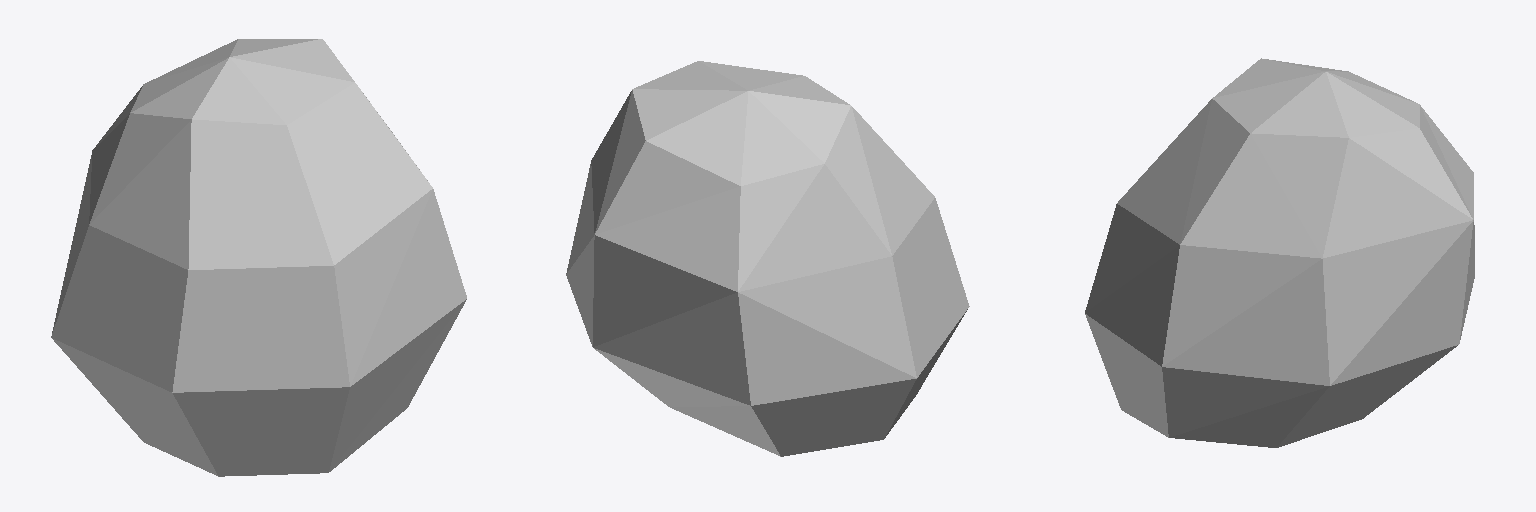
The model's file is demo_obj_rock.obj.
3 renders of one model, left to right at view 1: azimuth 30°, elevation 25°; view 2: azimuth 150°, elevation 25°; view 3: azimuth 270°, elevation 25°, orthographic.
Visible parts, largest first — view 1: [Imported]_obj1_obj1; view 2: [Imported]_obj1_obj1; view 3: [Imported]_obj1_obj1.
Boxes of the visible parts, <box> form: [Imported]_obj1_obj1: <box>51,39,466,476</box>; [Imported]_obj1_obj1: <box>566,61,969,456</box>; [Imported]_obj1_obj1: <box>1085,58,1474,447</box>.
Size of the model in its own units: 6.32 by 6.23 by 6.04.